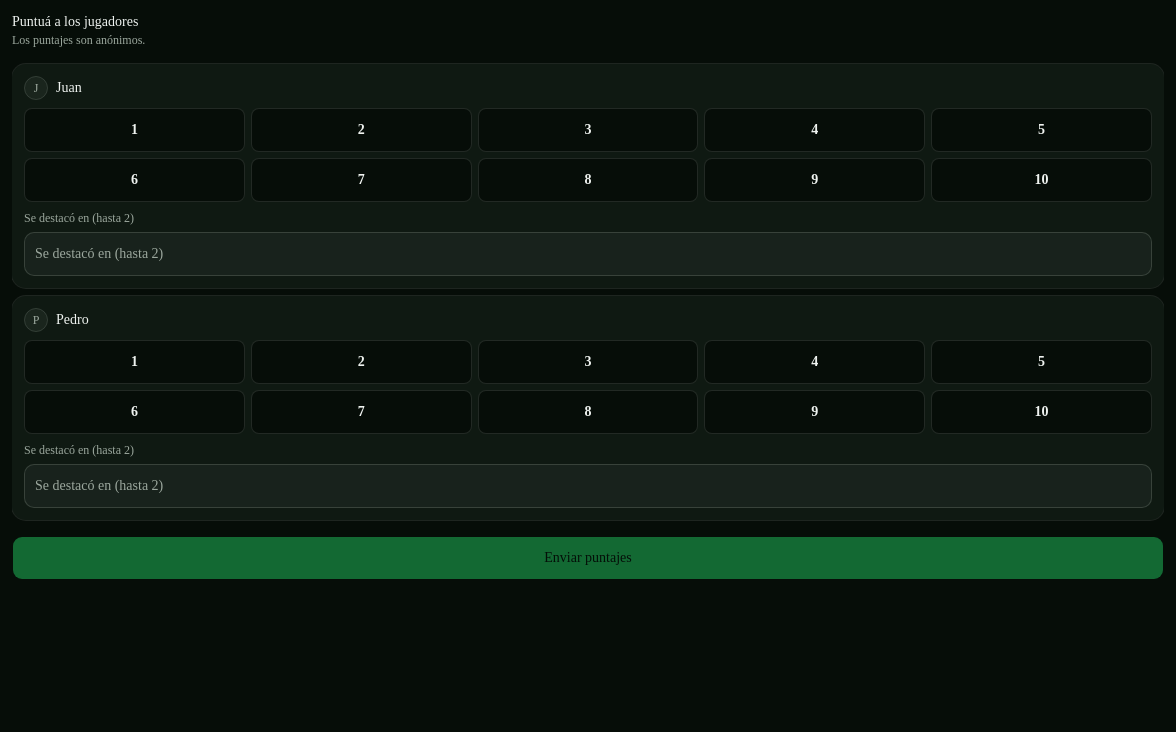
Test: RatingForm › disables submit until every listed player is rated
Expected: the button "Enviar puntajes" is disabled, [12,536,1164,580]
Click the 1st button "8".
click(588, 180)  # box [478,158,698,202]
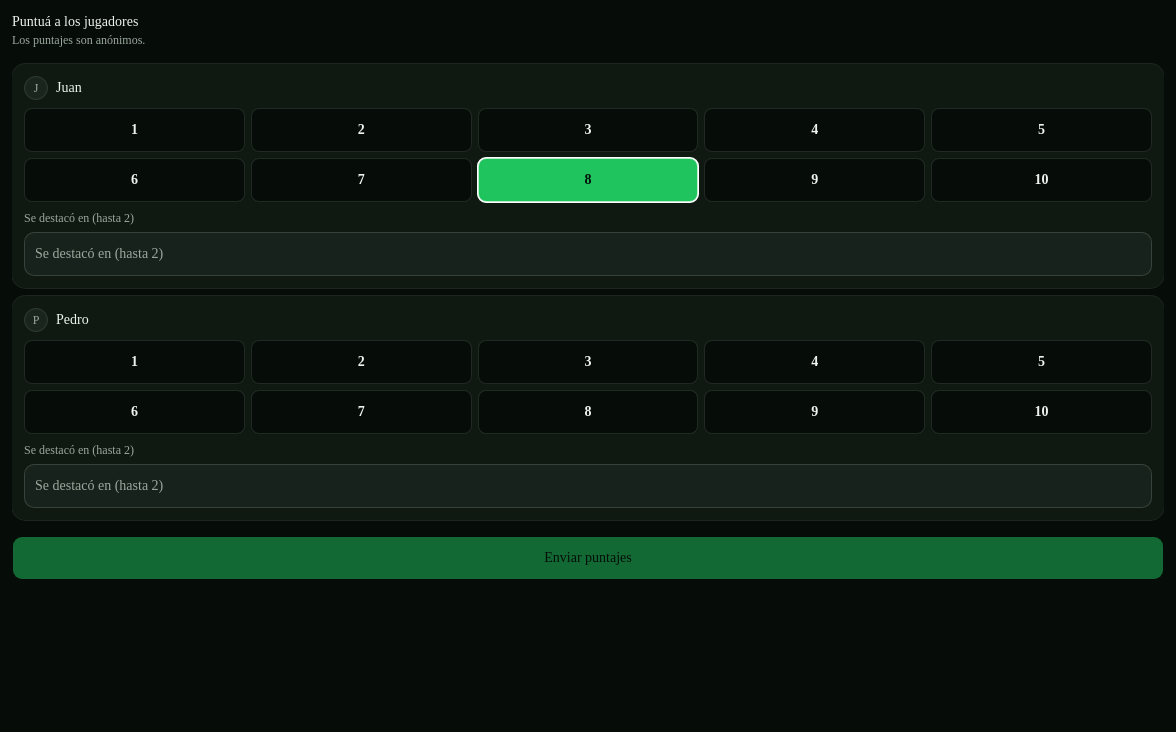
Expected: the button "Enviar puntajes" is disabled, [12,536,1164,580]
Click the button "6" below "Pedro".
click(134, 412)  # box [24,390,245,434]
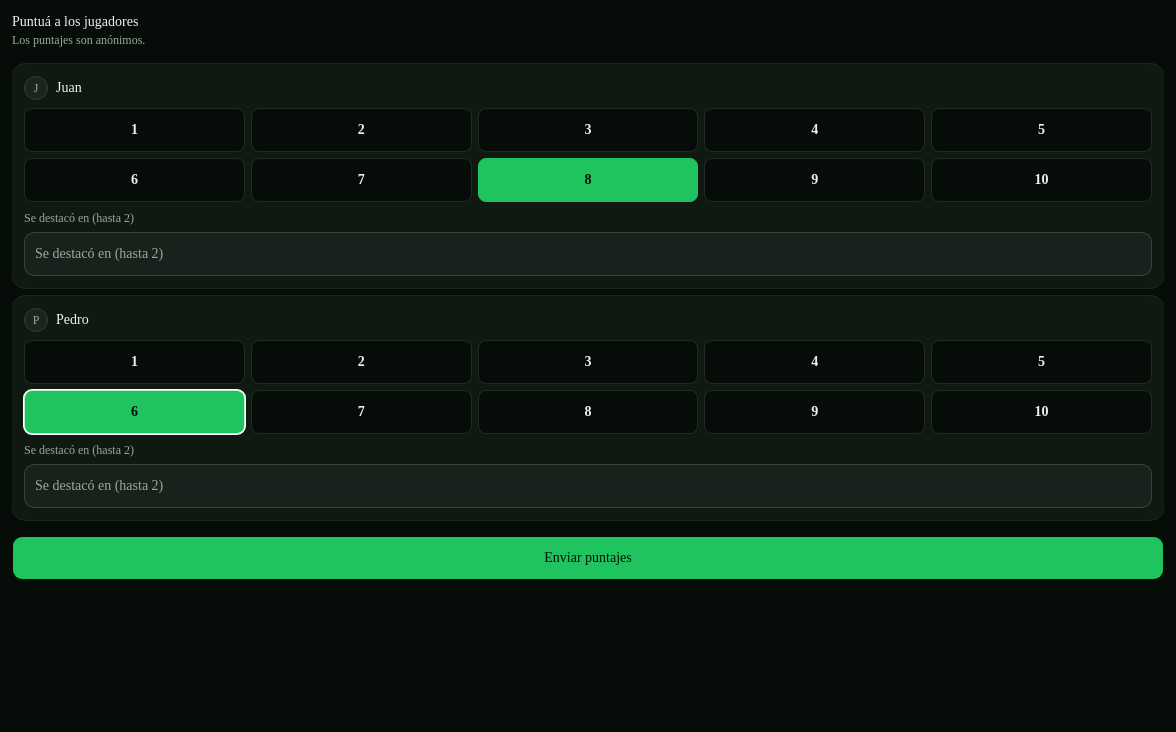
Result: the button "Enviar puntajes" is enabled at [12,536,1164,580]
